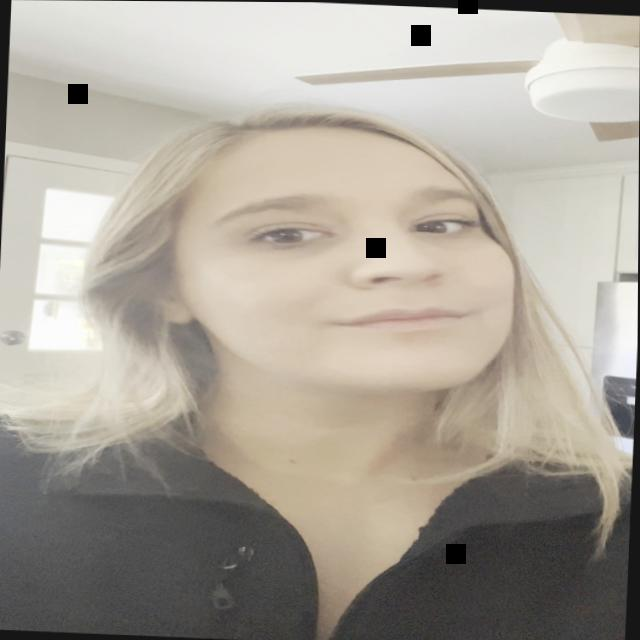NO-Mask: (115, 122, 560, 446)
